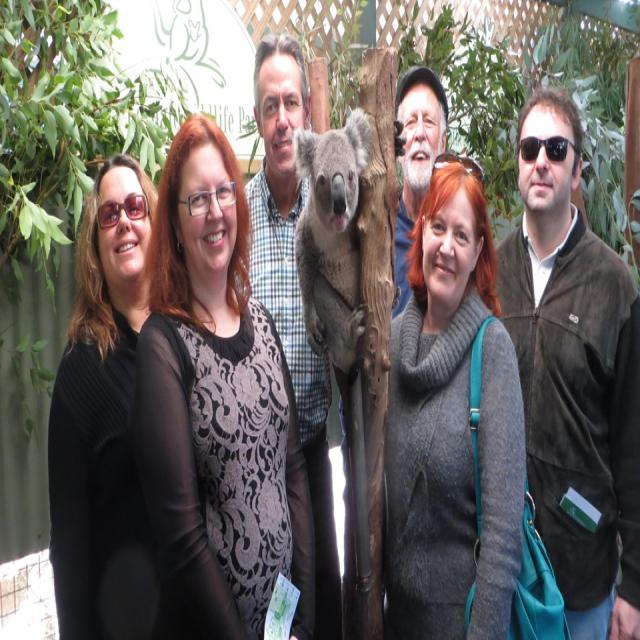body: (131, 110, 318, 640), (492, 83, 640, 639), (45, 149, 202, 640), (382, 161, 528, 640), (233, 31, 344, 640), (391, 64, 449, 323)
